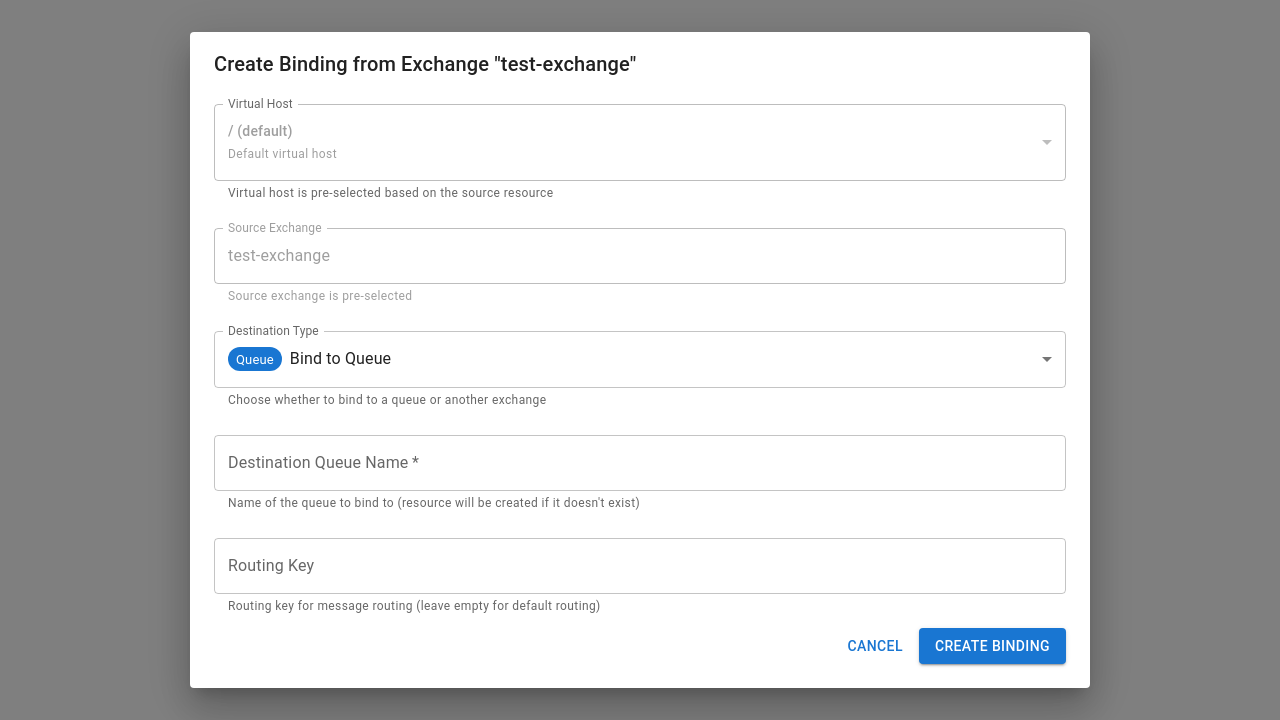
Test case: CreateBindingDialog › Form Validation › validates resource name format
The image size is (1280, 720).
In the field labelled "Destination Queue Name *": coordinates (640, 463) [214,435,1066,491], type "invalid name with spaces"
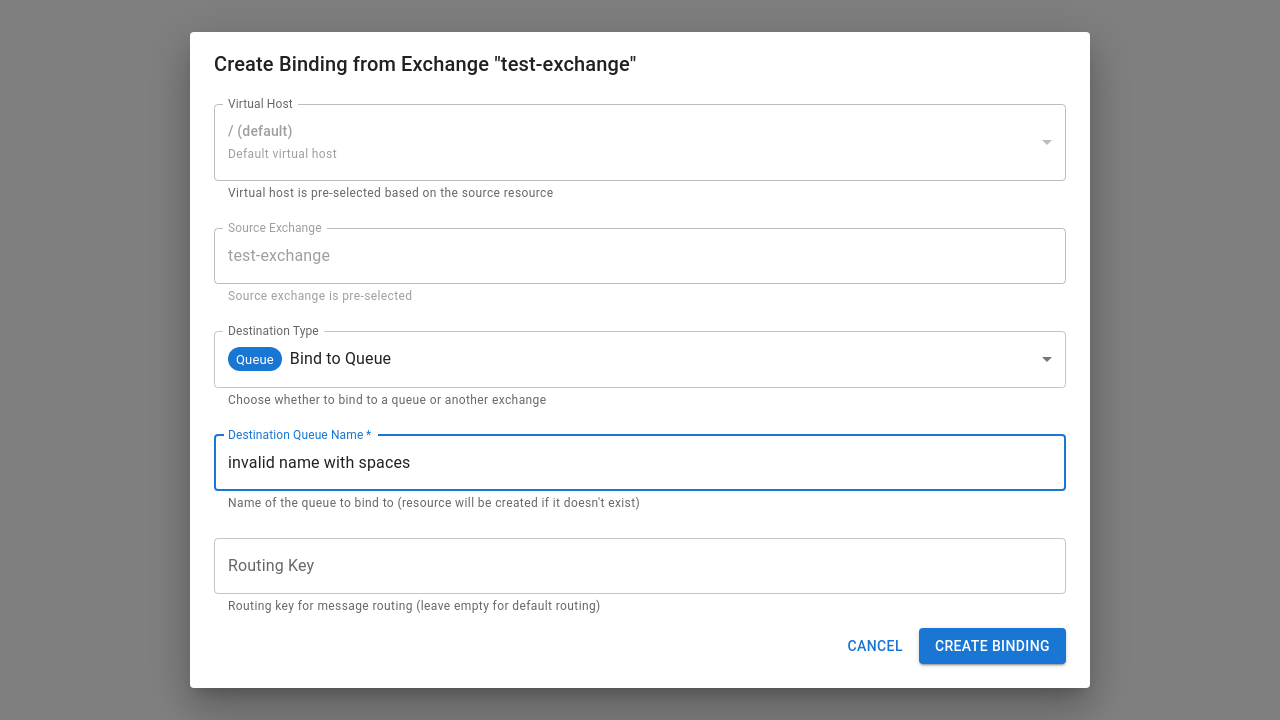
Click the button "Create Binding": coordinates (992, 646) [919,628,1066,664]
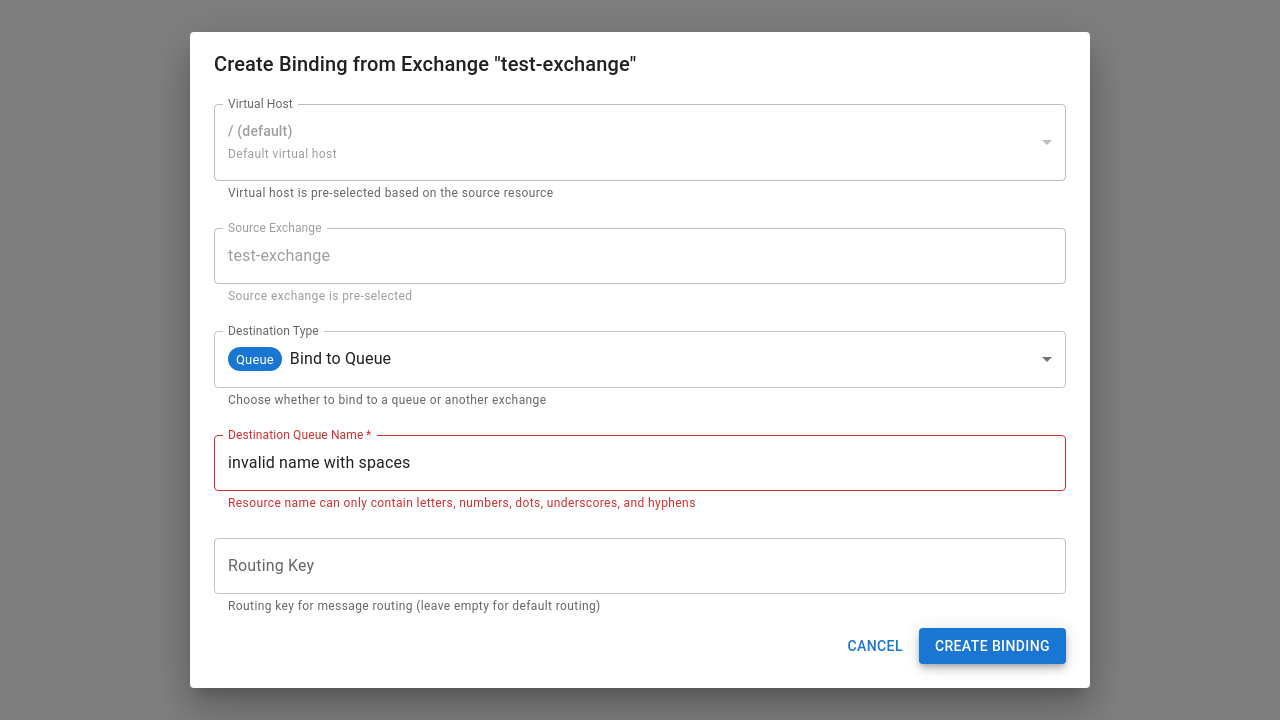
Expected: the text "can only contain letters, numbers, dots, underscores, and hyphens" is shown, [228,496,696,510]
